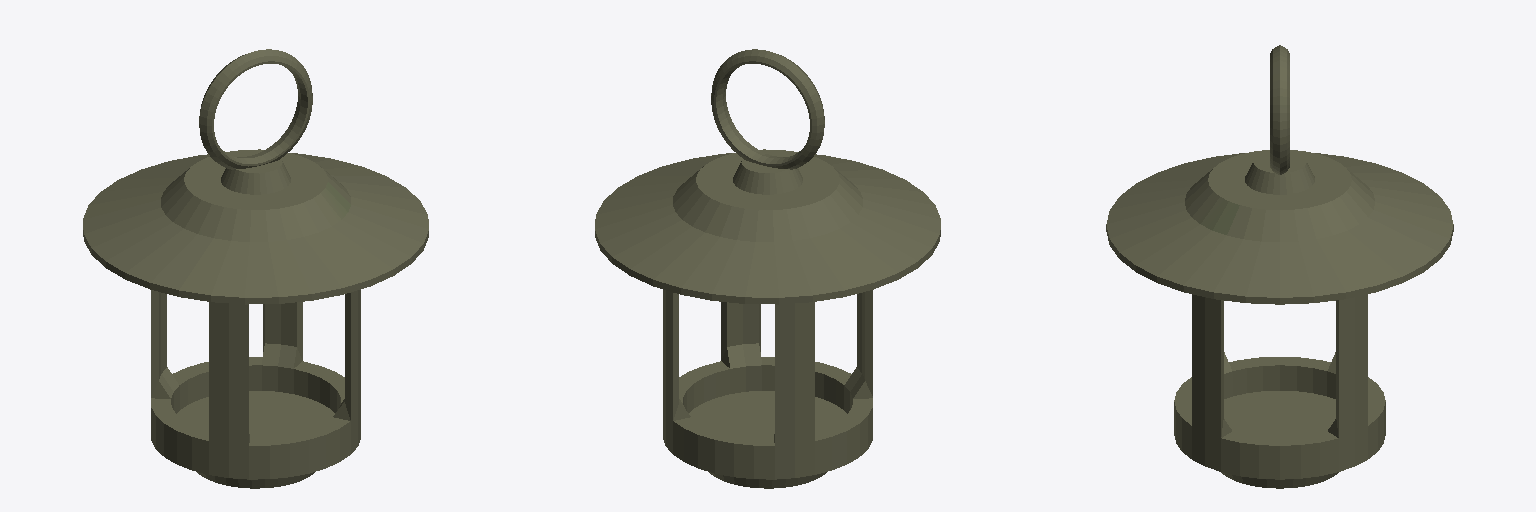
The picture shows the model from 3 angles: view 1: azimuth 30°, elevation 25°; view 2: azimuth 150°, elevation 25°; view 3: azimuth 270°, elevation 25°; orthographic projection.
Visible parts, largest first — view 1: 持ち手_トーラス; view 2: 持ち手_トーラス; view 3: 持ち手_トーラス.
Part boxes in pixels (bbox=[...]): 持ち手_トーラス: bbox=[83, 49, 428, 488]; 持ち手_トーラス: bbox=[595, 49, 940, 488]; 持ち手_トーラス: bbox=[1106, 45, 1453, 488].
Bounding box in the file's own units: 5.32 × 6.94 × 5.32.
Materials: 1 (1 with a texture image).